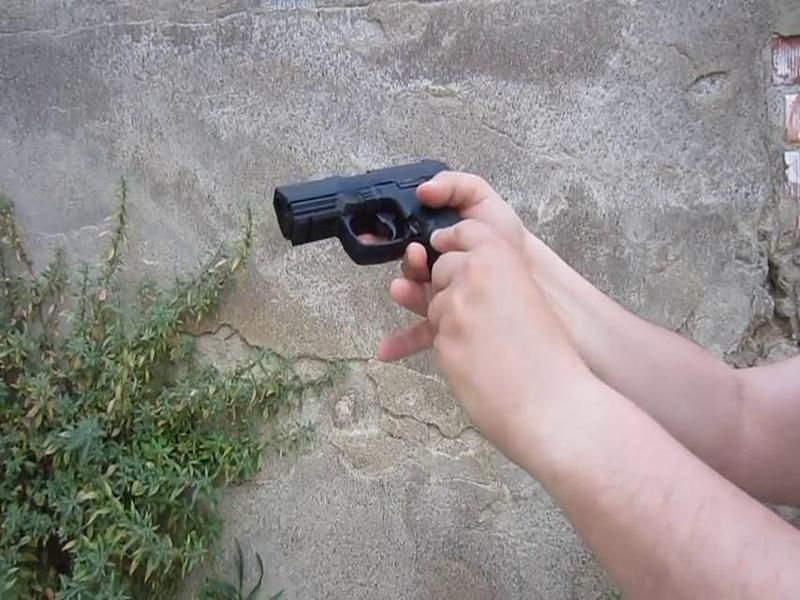Pistola: (258, 144, 533, 320)
